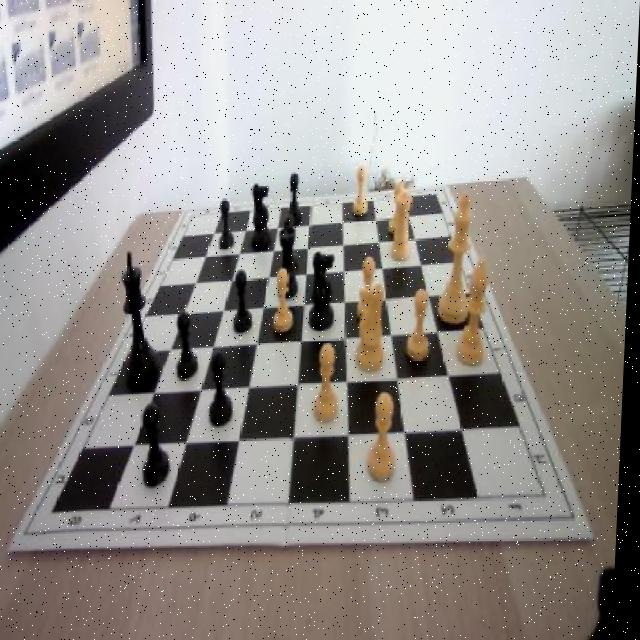black-bishop: (119, 252, 165, 388)
black-king: (309, 249, 341, 330), (251, 180, 275, 252)
black-knight: (144, 403, 176, 487), (210, 349, 238, 426), (178, 311, 205, 380), (233, 268, 257, 335), (280, 217, 303, 275), (220, 198, 238, 252), (288, 171, 305, 221)
black-queen: (280, 224, 306, 300)
black-rook: (459, 256, 496, 366)
white-bishop: (439, 196, 476, 326)
white-king: (354, 274, 396, 375)
white-knight: (369, 392, 405, 482), (313, 340, 347, 425), (408, 288, 438, 364), (359, 257, 385, 325), (274, 270, 297, 336), (352, 168, 372, 216), (390, 183, 409, 233)
white-queen: (391, 191, 416, 261)
